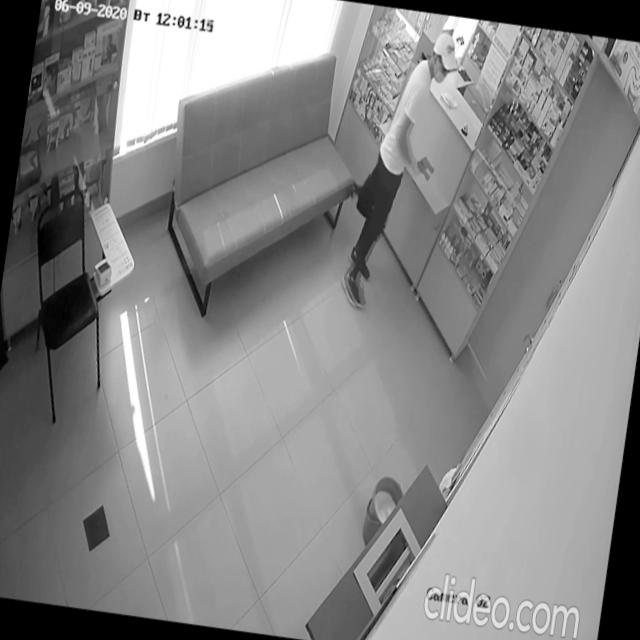gun: (413, 153, 437, 184)
person with a gun: (338, 23, 463, 320)
